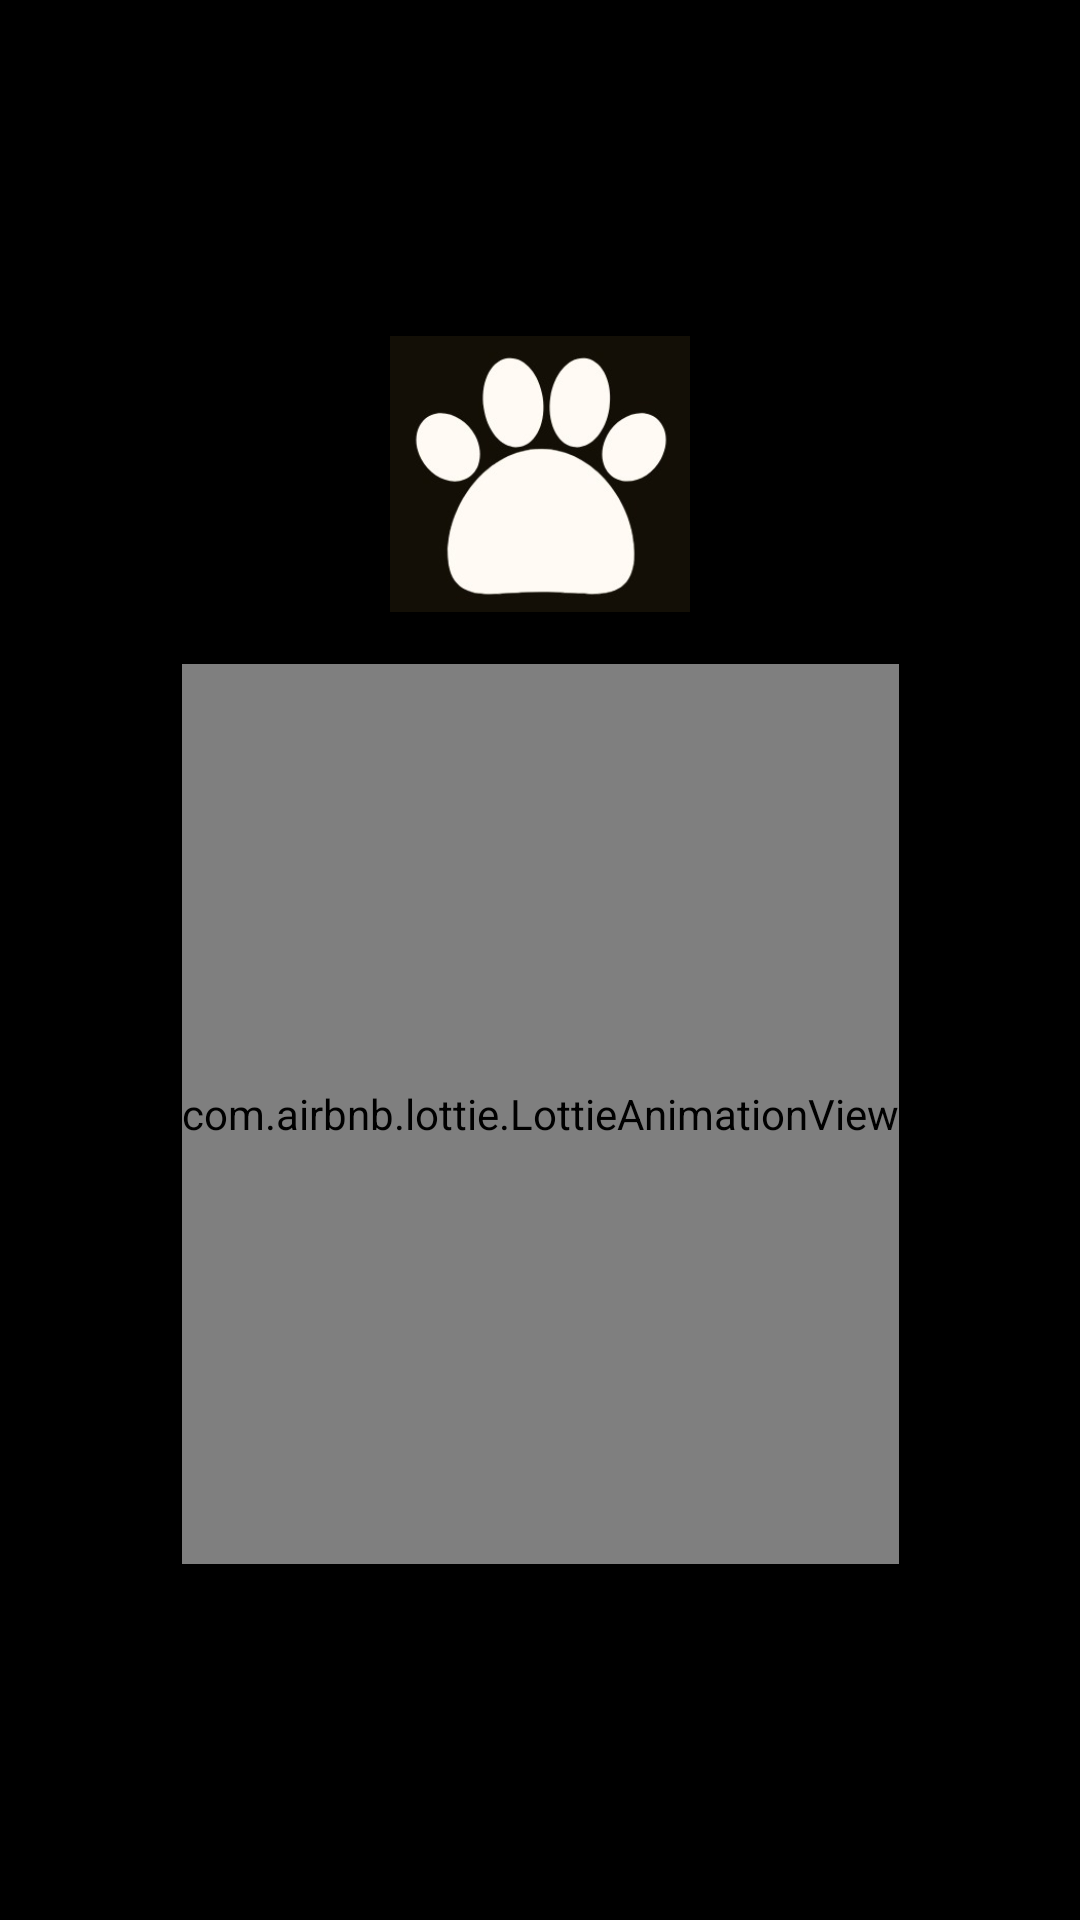

Where to tap for icons on this 1080 × 1920 app screen, as (x=x, y=y):
paw: (x=541, y=476)
